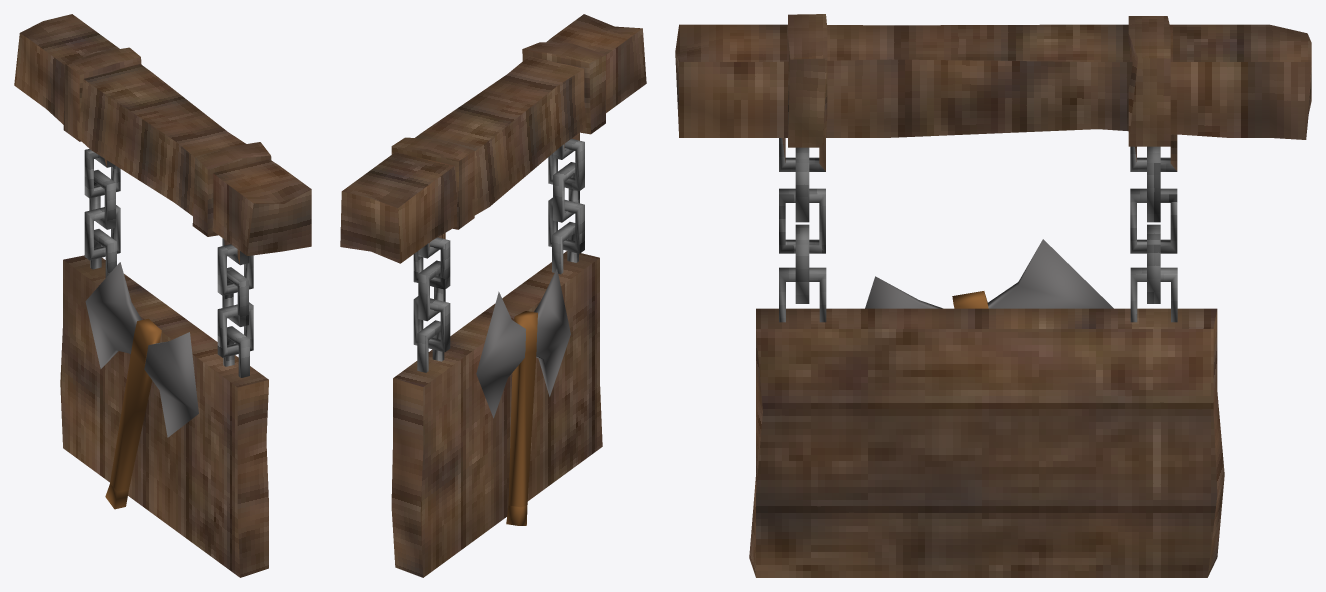
The model's file is weapon shop sign.glb.
The picture shows the model from 3 angles, left to right: view 1: azimuth 30°, elevation 25°; view 2: azimuth 150°, elevation 25°; view 3: azimuth 270°, elevation 25°; orthographic projection. The views are drawn at different scales.
Visible parts, largest first — view 1: Shop_Sign_1; view 2: Shop_Sign_1; view 3: Shop_Sign_1.
Boxes of the visible parts, box(x1,y1,x2,y2) form: Shop_Sign_1: box(14, 14, 311, 577); Shop_Sign_1: box(340, 14, 646, 577); Shop_Sign_1: box(675, 14, 1311, 577).
Size of the model in its own units: 0.2732 by 1.39 by 1.5.
4 materials, 2 textured.
